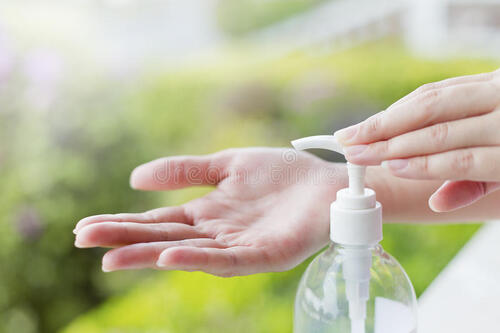sanitizer: (286, 136, 422, 333)
